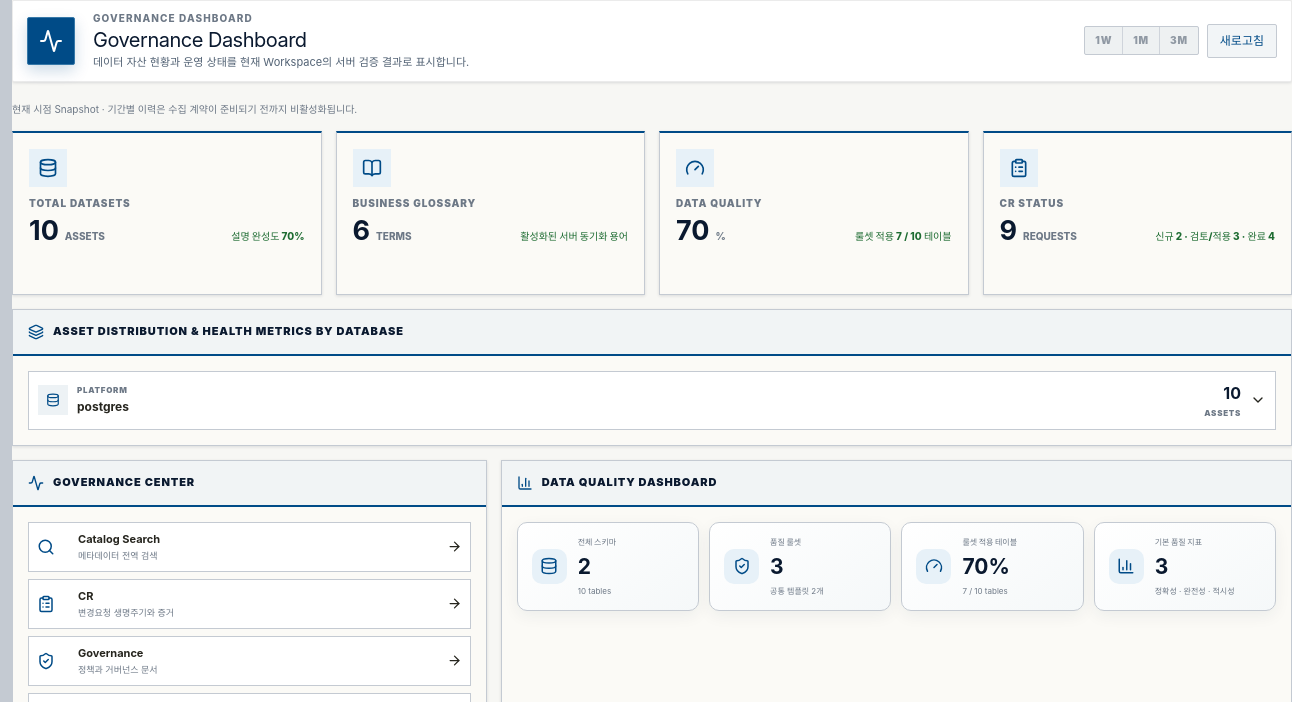
it: DashboardPage › renders source-derived catalog and quality dashboard facts
Expected: the text "설명 완성도 70%" is shown, [231,228,304,244]
Expected: the text "10" is shown 2 times, [29,216,59,244]; [1223,381,1241,405]
Click the button named "Platformpostgres10Assets" at (102, 390), box [29,372,1275,428]
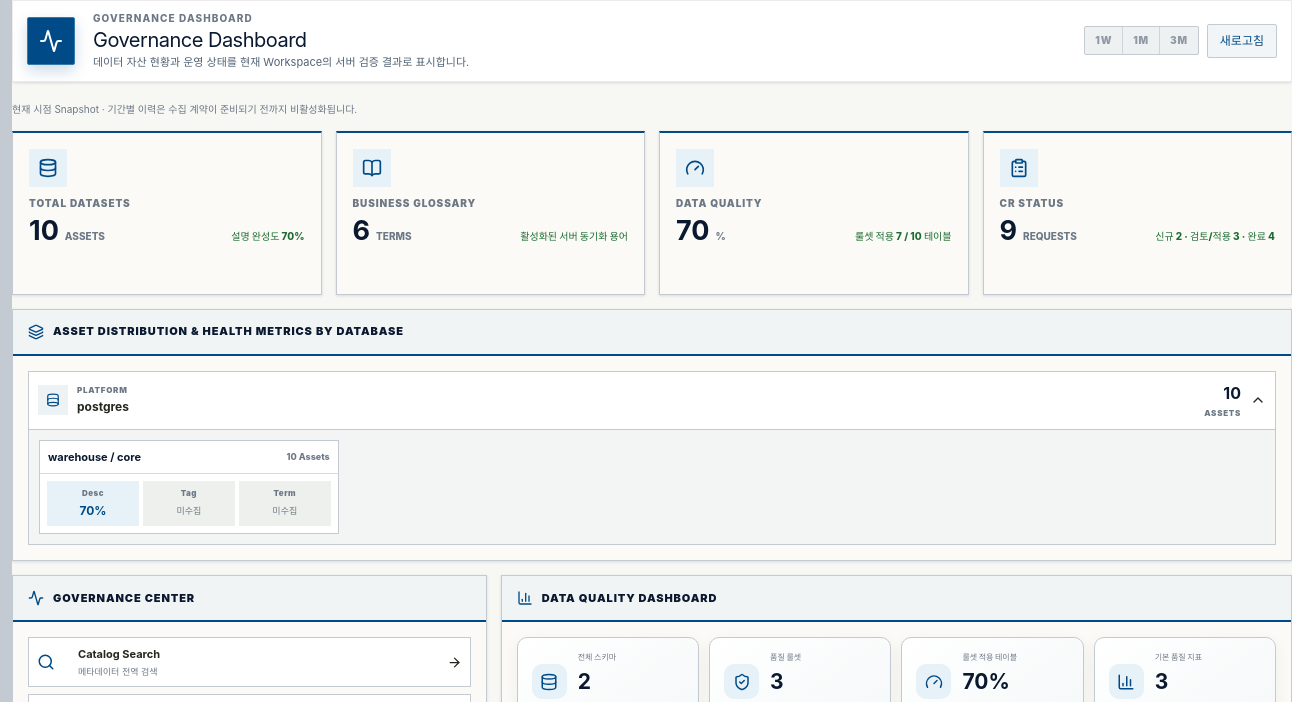
Now the text "warehouse / core" is shown, box [48,448,141,465]
Now the text "70%" is shown 2 times, box [79,502,106,520]; [962,669,1010,694]
Now the text "미수집" is shown 2 times, box [176,504,201,520]; [272,504,297,520]
